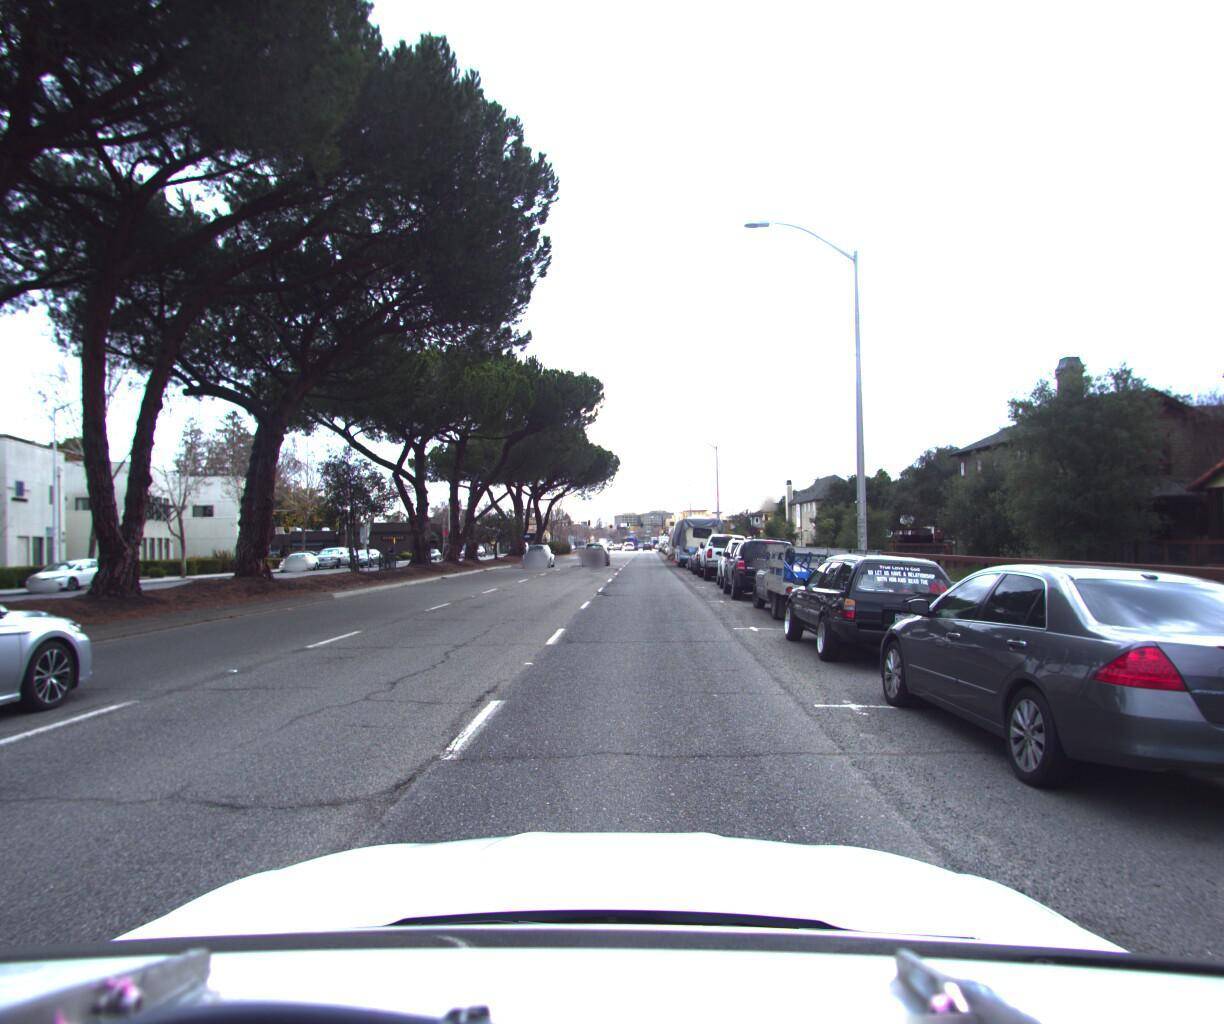bus: (671, 509, 723, 564)
car: (850, 545, 1224, 852), (0, 552, 125, 854), (774, 542, 976, 678), (741, 536, 888, 627), (717, 529, 801, 602), (22, 554, 126, 592), (711, 529, 778, 586), (695, 526, 757, 578), (690, 536, 729, 570), (310, 542, 359, 565), (278, 547, 322, 568), (345, 542, 389, 563), (521, 537, 555, 564), (579, 536, 611, 562)
